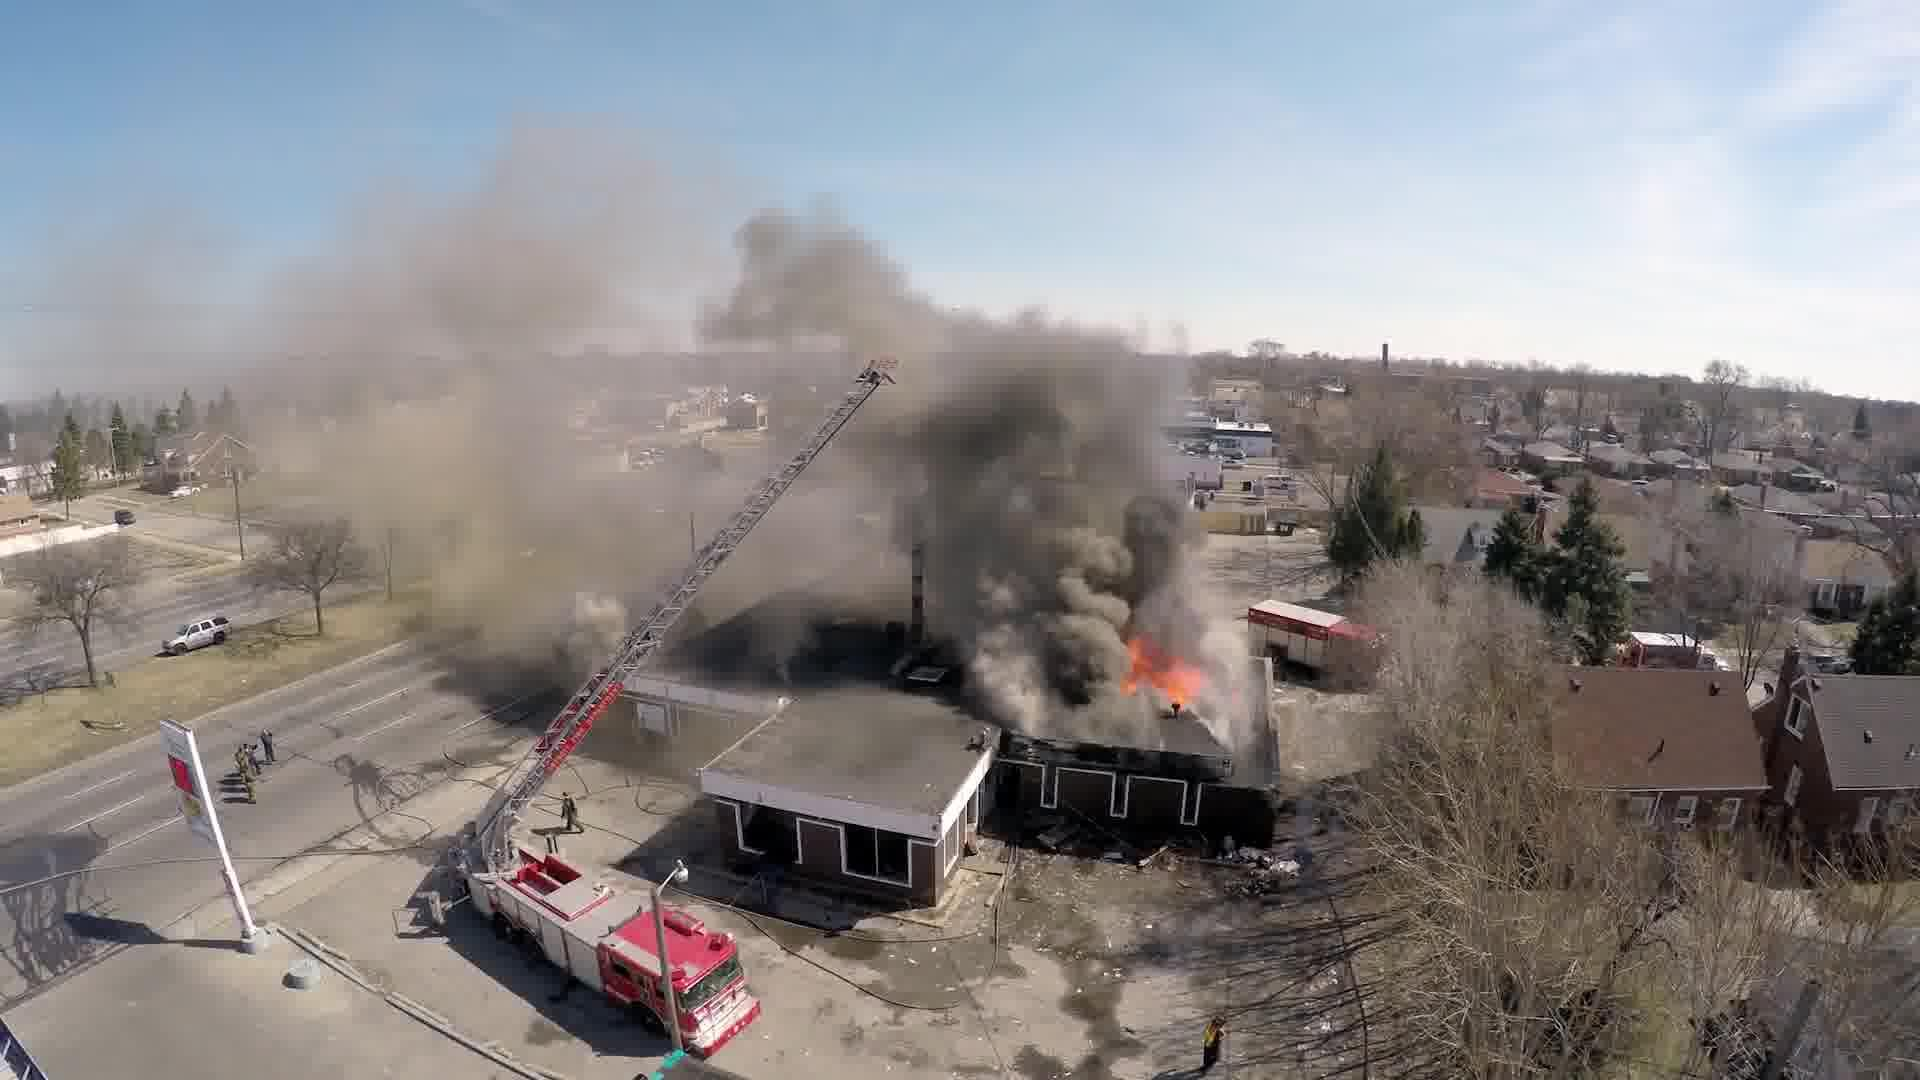fire: (500, 933, 1182, 1075)
smoke: (152, 239, 1208, 584), (947, 590, 1147, 753)
